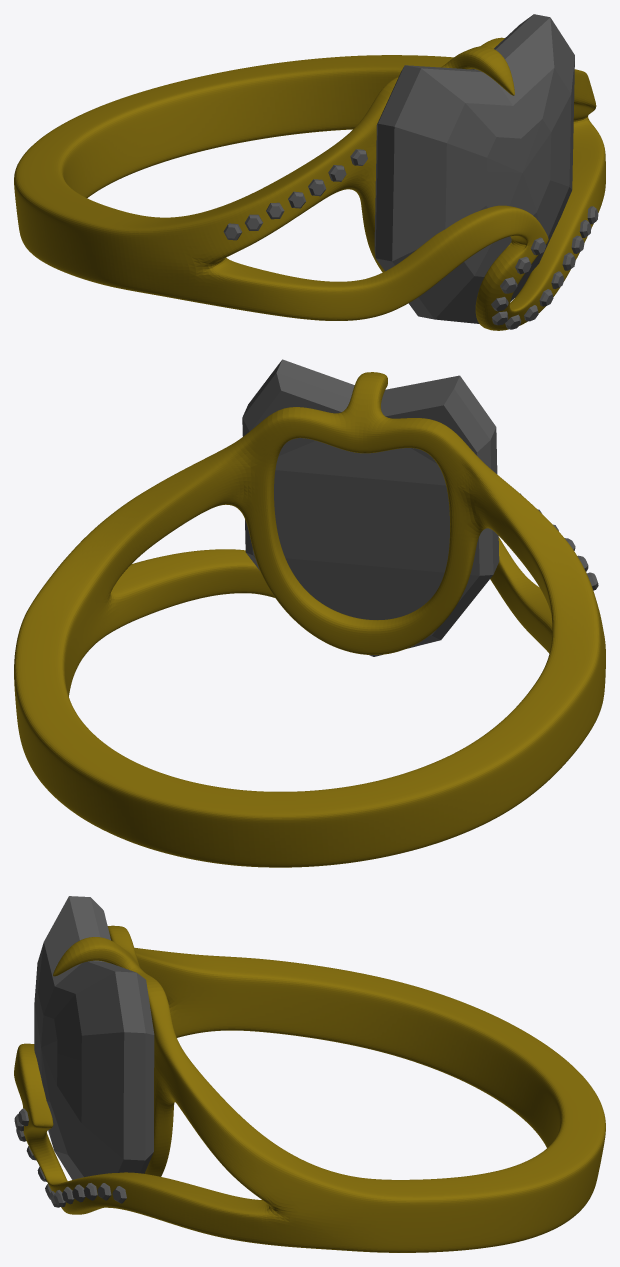
The model's file is ring.obj.
3 renders of one model, top to bottom at view 1: azimuth 30°, elevation 25°; view 2: azimuth 150°, elevation 25°; view 3: azimuth 270°, elevation 25°, orthographic. The views are drawn at different scales.
Visible parts, largest first — view 1: Group1, Shape01; view 2: Group1, Shape01; view 3: Group1, Shape01.
Boxes of the visible parts, x1,y1,x2,y2 form: Group1: (14, 37, 605, 330); Shape01: (223, 14, 598, 329); Group1: (14, 372, 605, 867); Shape01: (242, 359, 598, 656); Group1: (14, 925, 605, 1252); Shape01: (14, 896, 154, 1207).
Bounding box in the file's own units: 117 × 61.7 × 121.
